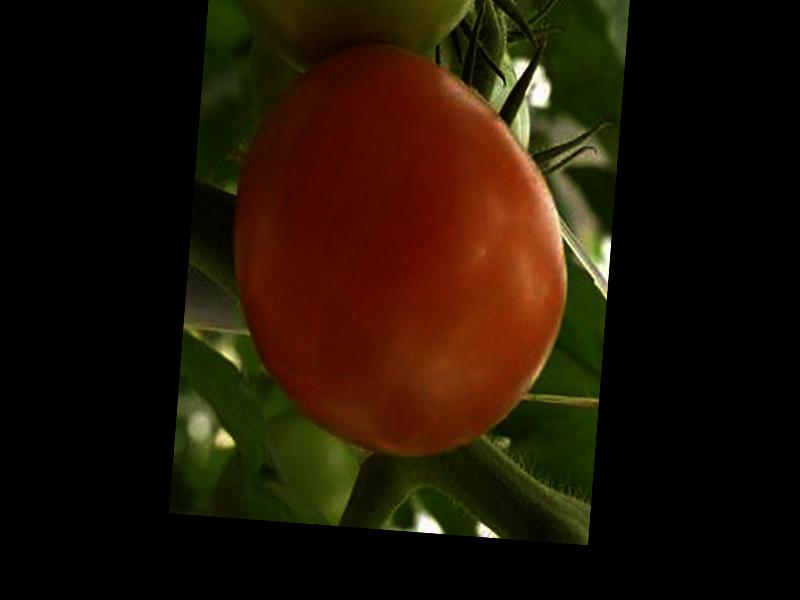Tomato: (217, 35, 586, 467)
